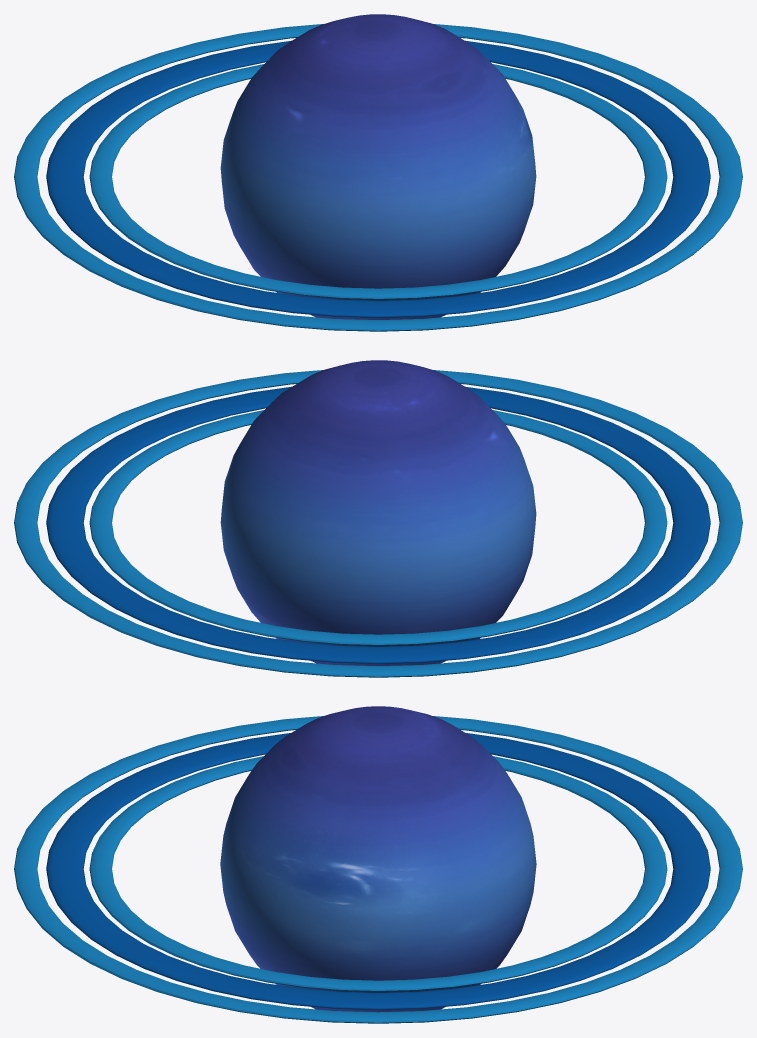
Rendered from neptune-realistic.glb.
3 renders of one model, top to bottom at view 1: azimuth 30°, elevation 25°; view 2: azimuth 150°, elevation 25°; view 3: azimuth 270°, elevation 25°, orthographic.
Parts seen in each view (by area): view 1: Sphere.002, Circle.001, Circle.002, Circle; view 2: Sphere.002, Circle.001, Circle.002, Circle; view 3: Sphere.002, Circle.001, Circle.002, Circle.
Boxes of the visible parts, x1=… form: Sphere.002: x1=220, y1=14, x2=536, y2=319; Circle.001: x1=46, y1=40, x2=710, y2=317; Circle.002: x1=14, y1=24, x2=742, y2=331; Circle: x1=89, y1=64, x2=667, y2=299; Sphere.002: x1=220, y1=360, x2=536, y2=665; Circle.001: x1=46, y1=386, x2=710, y2=663; Circle.002: x1=14, y1=370, x2=742, y2=677; Circle: x1=89, y1=410, x2=667, y2=645; Sphere.002: x1=220, y1=706, x2=536, y2=1012; Circle.001: x1=46, y1=733, x2=710, y2=1009; Circle.002: x1=14, y1=716, x2=742, y2=1023; Circle: x1=89, y1=756, x2=667, y2=991.
Size of the model in its own units: 5.07 by 2.2 by 5.07.
3 materials, 1 textured.
